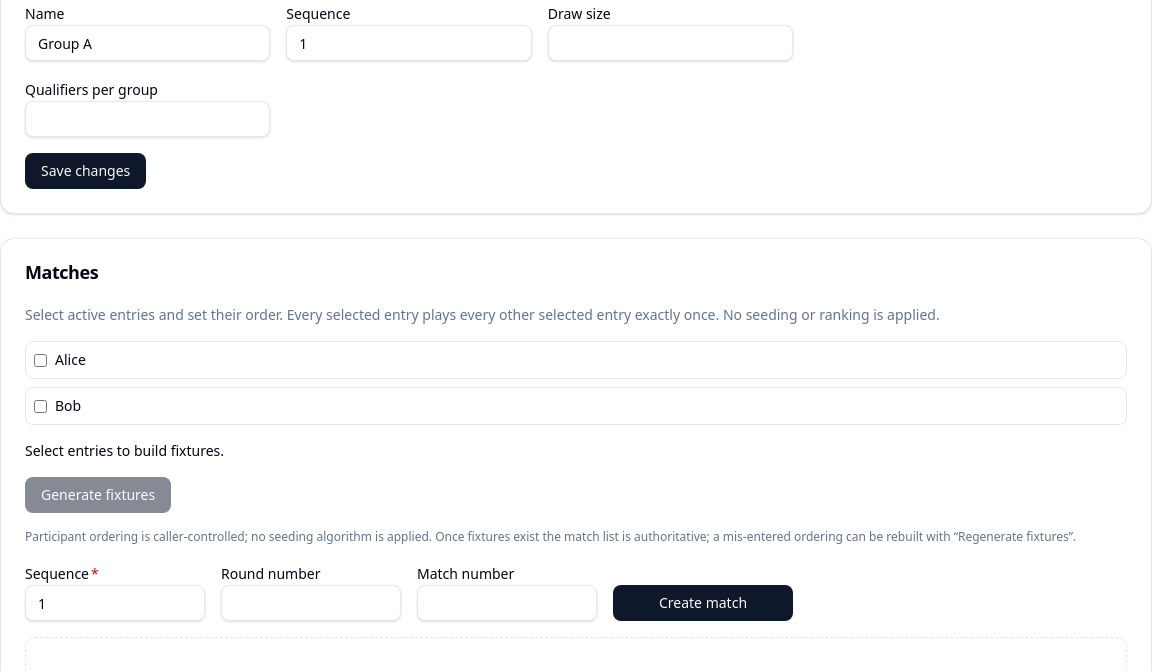
Test case: group fixture flows › shows an error state when fixture generation fails
(page scrolled)
Expected: the text "Alice" is shown, [55,350,86,370]
Click the checkbox labelled "Alice" at x=40, y=360, box [34,354,47,366]
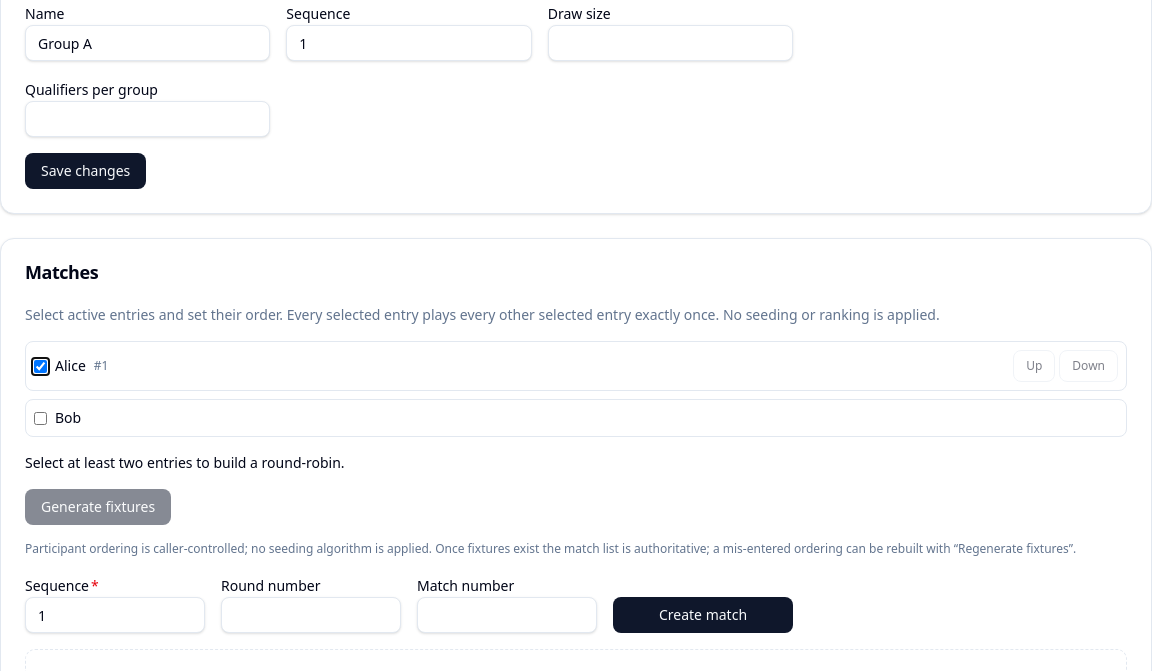
Click the checkbox labelled "Bob" at x=40, y=418, box [34,412,47,424]
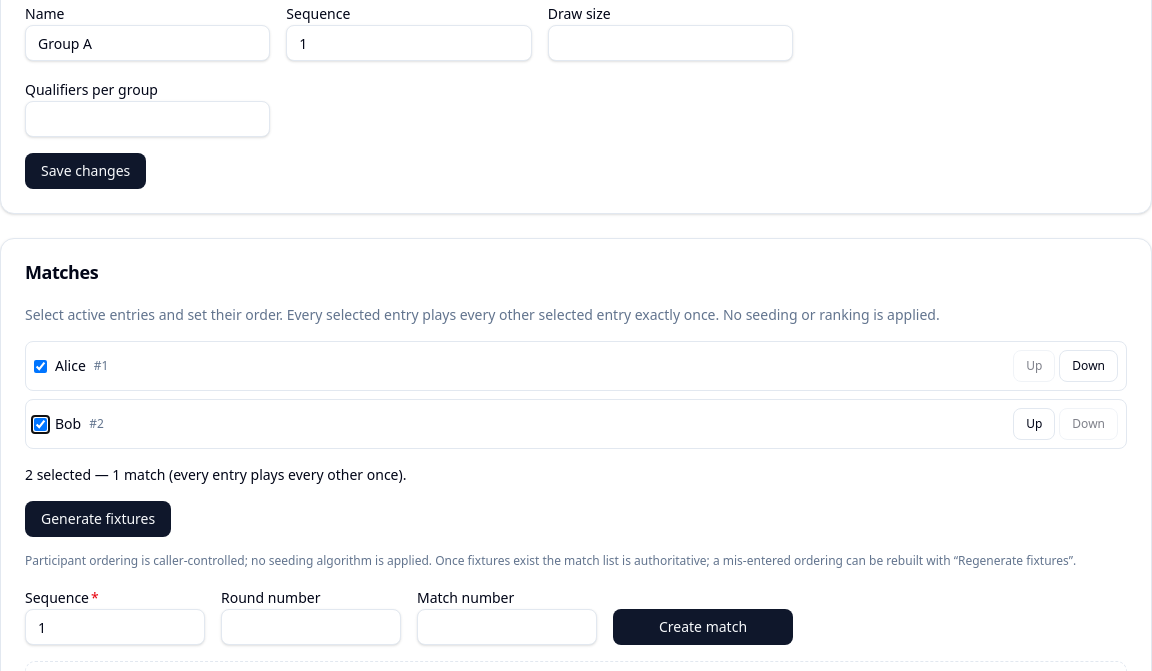
Click the button "Generate fixtures" at x=98, y=519, box [25,501,171,537]
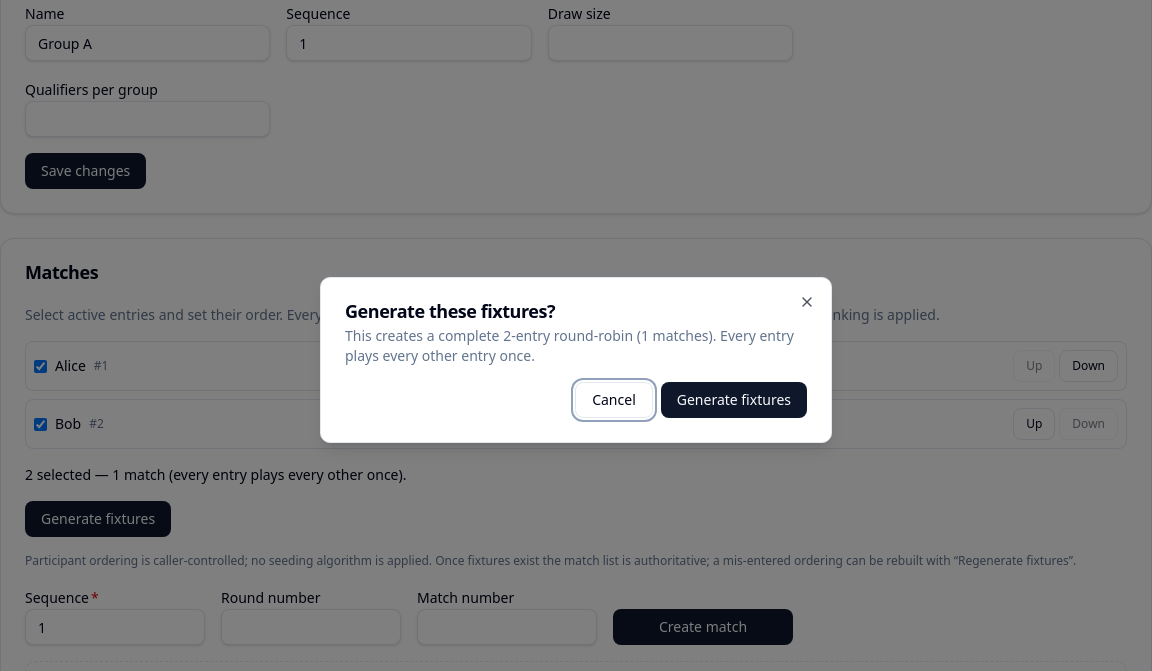
Click the button "Generate fixtures" at x=734, y=400, box [661,382,807,418]
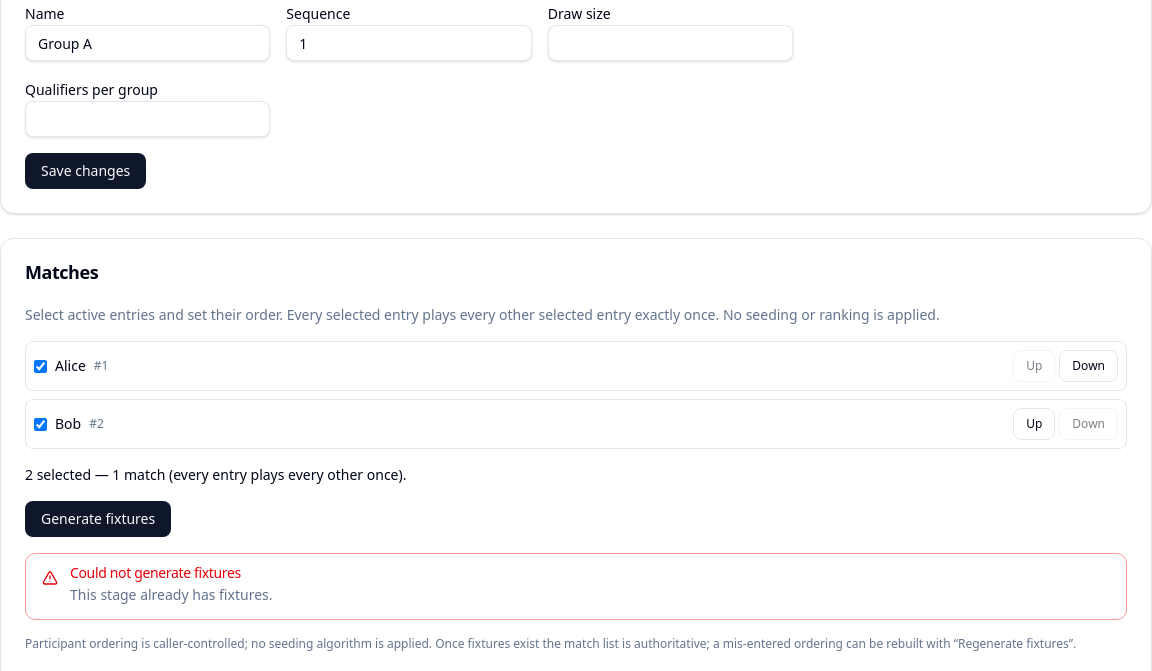
Expected: the heading "Could not generate fixtures" is shown, [70,563,241,582]
